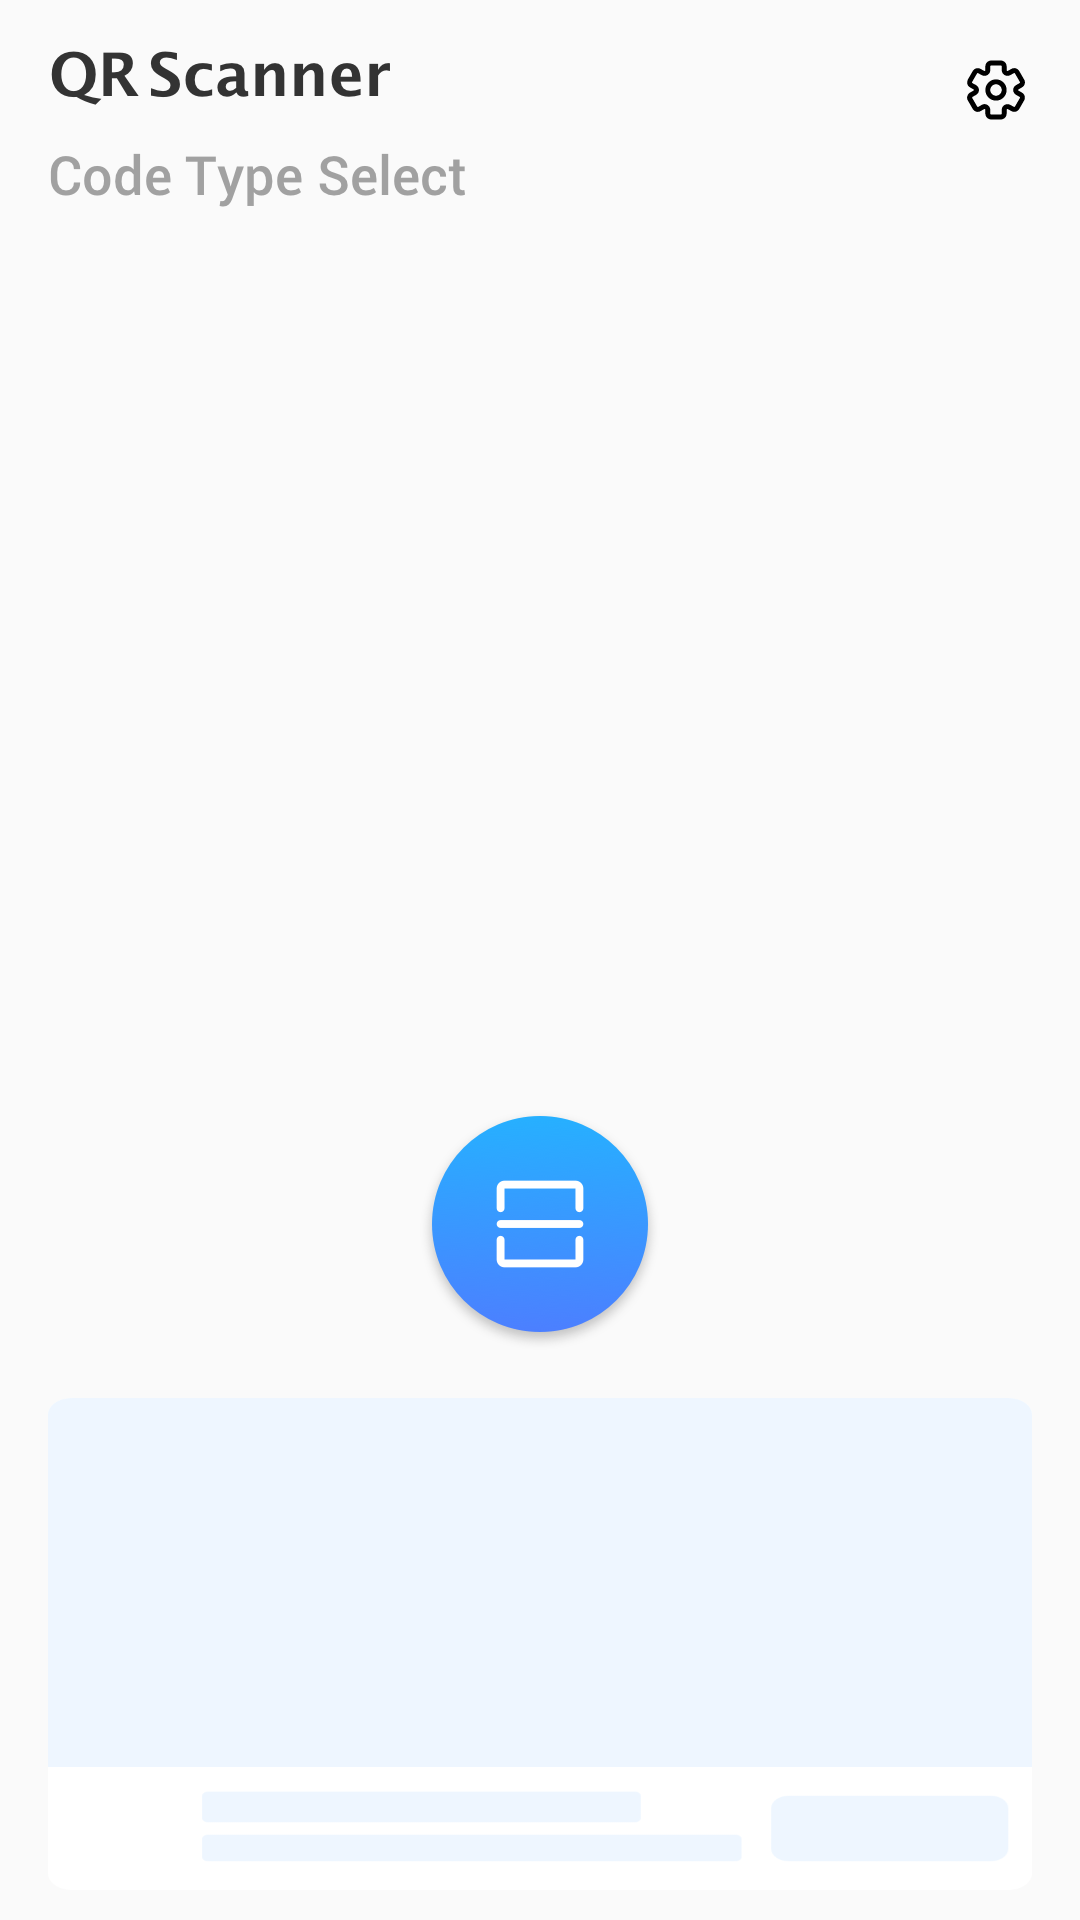

Named icons in this screenshot (1080x1920) and their centers, (x,y):
home scan: (540,1227)
settings: (996,90)
